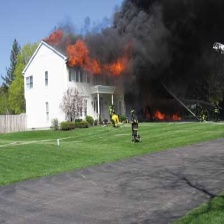fire: (51, 34, 118, 76), (151, 111, 182, 120)
smoke: (92, 1, 224, 101)
